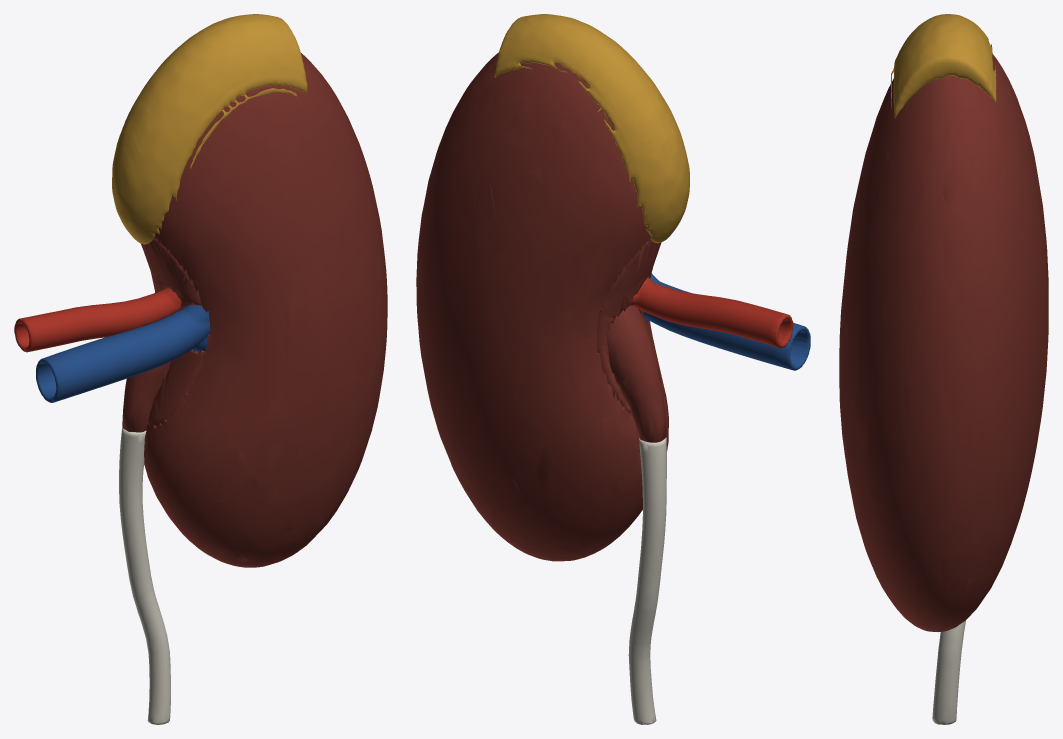
Rendered from kidney_staghorn.glb.
3 views of the same model, side by side, from view 1: azimuth 30°, elevation 25°; view 2: azimuth 150°, elevation 25°; view 3: azimuth 270°, elevation 25° (orthographic). The views are drawn at different scales.
Parts seen in each view (by area): view 1: kidney_body, adrenal_gland, renal_vein, ureter, renal_artery; view 2: kidney_body, adrenal_gland, ureter, renal_artery, renal_vein; view 3: kidney_body, adrenal_gland, ureter.
Part boxes in pixels (x1,y1,x2,y2): kidney_body: (122,53,387,567); adrenal_gland: (112,14,307,244); renal_vein: (36,305,210,402); ureter: (119,428,170,724); renal_artery: (14,287,183,352); kidney_body: (416,52,668,561); adrenal_gland: (494,14,689,243); ureter: (628,437,666,724); renal_artery: (630,277,793,348); renal_vein: (643,273,810,370); kidney_body: (839,54,1048,631); adrenal_gland: (890,14,996,118); ureter: (932,620,965,724).
Size of the model in its own units: 7.85 by 14.23 by 3.65.
